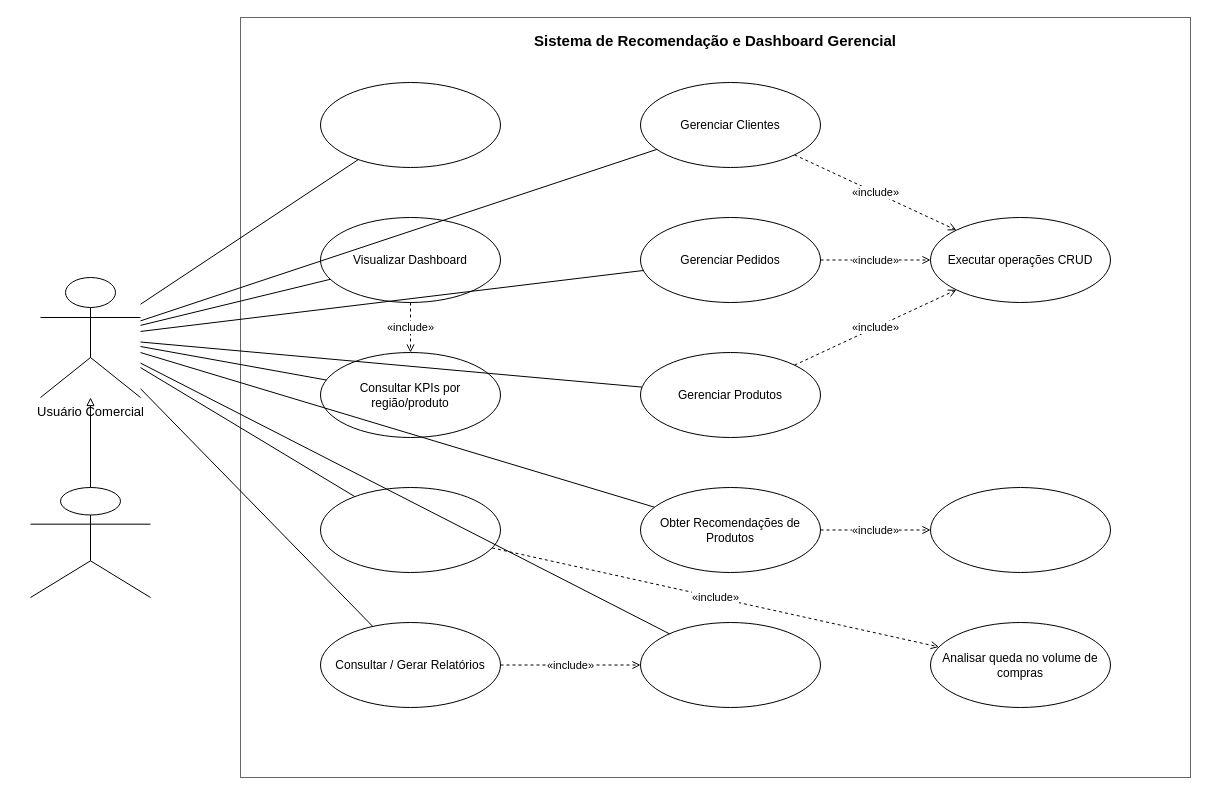
Image size: 1208x795. Some labels were removed from this diagram. The shapes that lost their labels are listed below. From the top down, each one's centre as x and y in pixels, then its label:
the point at 410,125: Autenticar-se
the point at 90,542: Representante Comercial
the point at 410,529: Visualizar Alertas
the point at 1020,529: Executar Motor de Recomendação
the point at 730,665: Aplicar Filtros Dinâmicos
